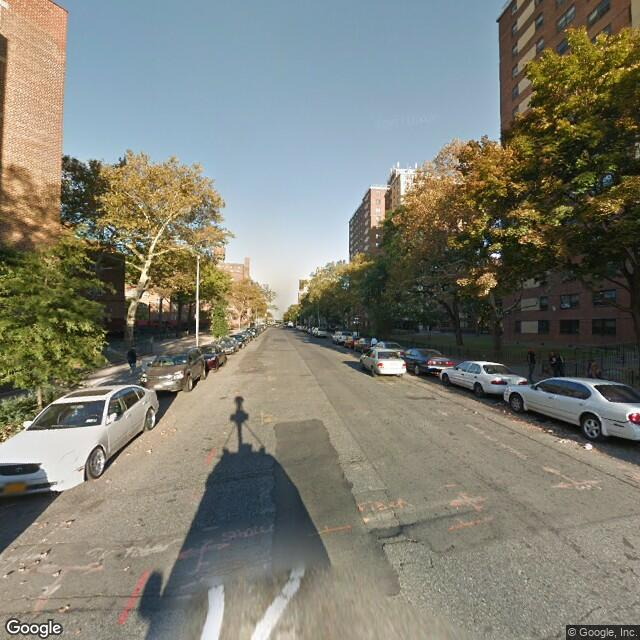litter: (556, 437, 571, 446), (582, 443, 594, 452)
